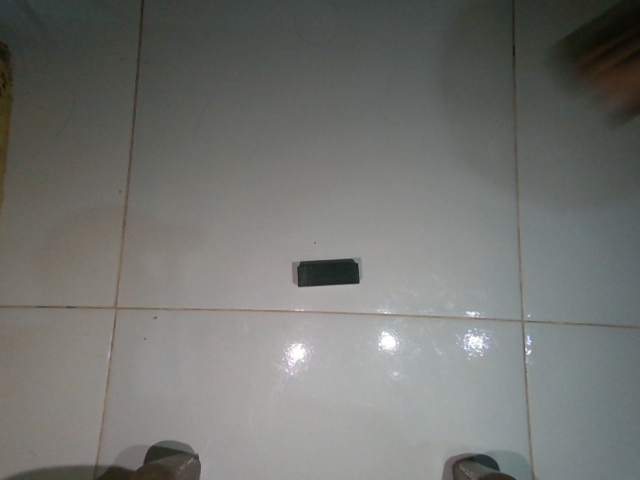Balok-Hitam: (298, 259, 358, 286)
